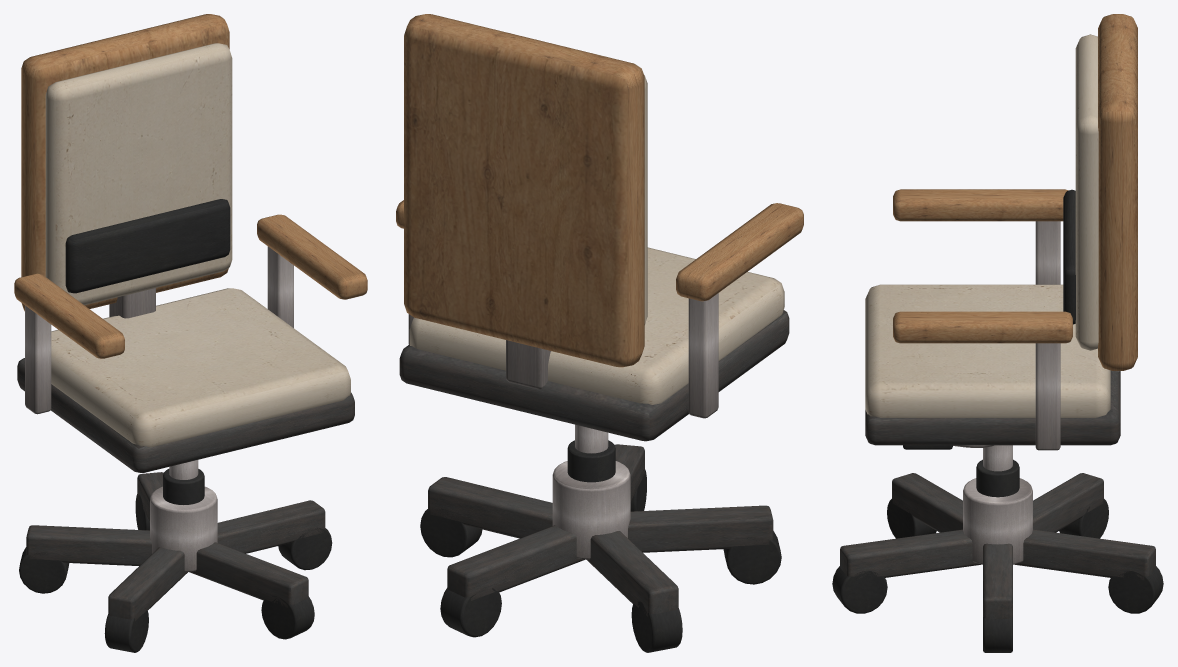
Rendered from SM_FacilityRooms_OperatorChair.fbx.
3 renders of one model, left to right at view 1: azimuth 30°, elevation 25°; view 2: azimuth 150°, elevation 25°; view 3: azimuth 270°, elevation 25°, orthographic. The views are drawn at different scales.
Parts seen in each view (by area): view 1: SM_FacilityRooms_OperatorChair; view 2: SM_FacilityRooms_OperatorChair; view 3: SM_FacilityRooms_OperatorChair.
Part boxes in pixels (left/top/right/bottom): SM_FacilityRooms_OperatorChair: left=14, top=14, right=367, bottom=652; SM_FacilityRooms_OperatorChair: left=396, top=14, right=803, bottom=652; SM_FacilityRooms_OperatorChair: left=832, top=14, right=1163, bottom=652.
Size of what is drawn, in the model's own units: 65 by 65 by 115.
